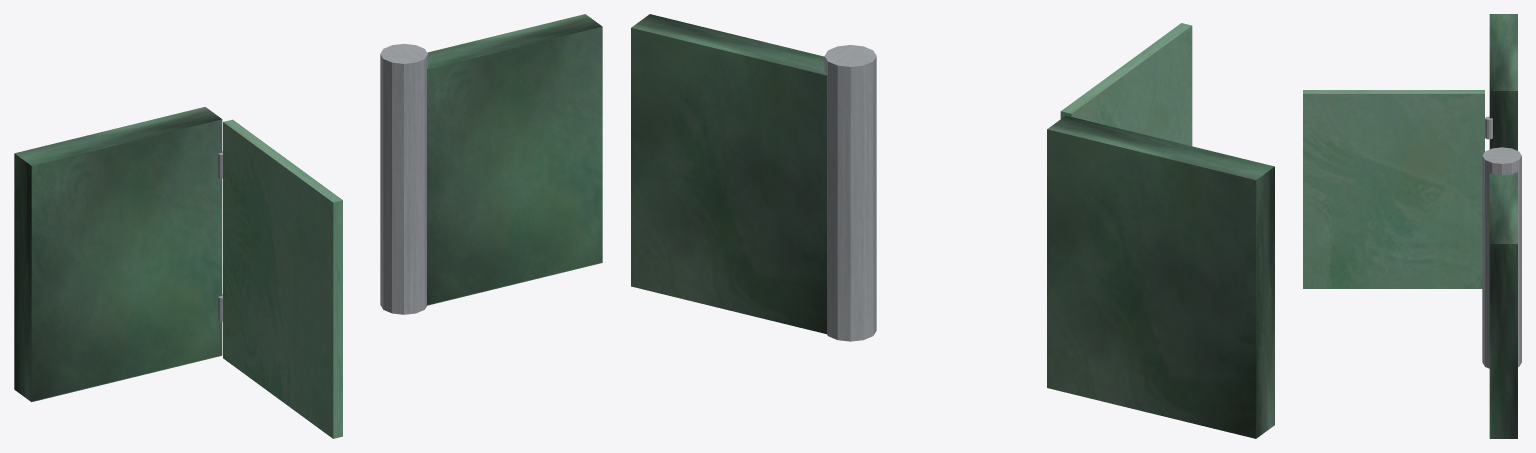
File: door_hinged.fbx
The picture shows the model from 3 angles, left to right: view 1: azimuth 30°, elevation 25°; view 2: azimuth 150°, elevation 25°; view 3: azimuth 270°, elevation 25°; orthographic projection. The views are drawn at different scales.
Parts seen in each view (by area): view 1: wall, wall1, door, lock; view 2: wall, wall1, lock, door; view 3: door, wall1, wall, lock.
Part boxes in pixels (left/top/right/bottom): wall: left=14, top=107, right=222, bottom=402; wall1: left=427, top=14, right=602, bottom=305; door: left=223, top=119, right=342, bottom=438; lock: left=380, top=43, right=427, bottom=314; wall: left=1047, top=115, right=1274, bottom=438; wall1: left=631, top=14, right=827, bottom=334; lock: left=824, top=45, right=876, bottom=341; door: left=1060, top=23, right=1192, bottom=145; door: left=1303, top=90, right=1484, bottom=288; wall1: left=1489, top=172, right=1517, bottom=438; wall: left=1489, top=14, right=1517, bottom=150; lock: left=1482, top=147, right=1521, bottom=368.
Bounding box in the file's own units: 25.28 × 10.61 × 10.16.
Materials: 1 (1 with a texture image).
